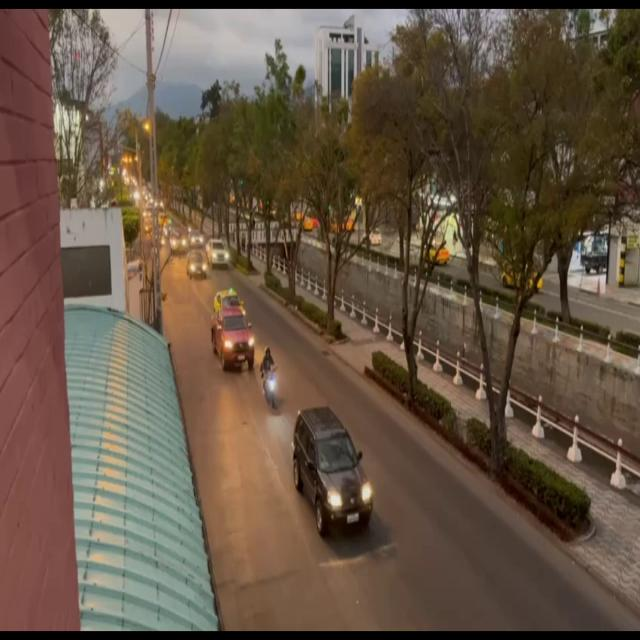CMT: (210, 310, 254, 369), (208, 238, 231, 268)
MOTORCYCLE: (264, 345, 282, 405)
SED: (212, 288, 247, 316), (186, 252, 207, 280)
SUV: (296, 412, 368, 532)
